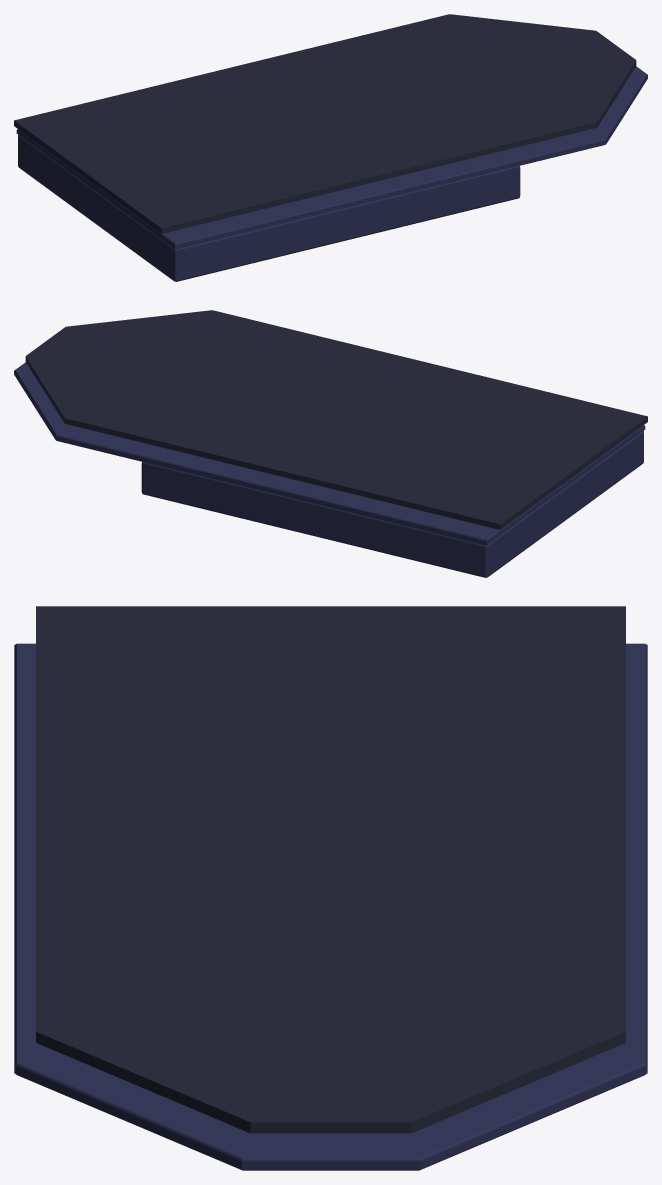
The model's file is HULL_deck_slab.glb.
3 renders of one model, top to bottom at view 1: azimuth 30°, elevation 25°; view 2: azimuth 150°, elevation 25°; view 3: azimuth 270°, elevation 25°, orthographic. The views are drawn at different scales.
Parts seen in each view (by area): view 1: HULL_deck_slab.001; view 2: HULL_deck_slab.001; view 3: HULL_deck_slab.001.
Part boxes in pixels (x1=…): HULL_deck_slab.001: x1=14, y1=14, x2=647, y2=281; HULL_deck_slab.001: x1=14, y1=310, x2=647, y2=577; HULL_deck_slab.001: x1=14, y1=606, x2=647, y2=1170.
Size of the model in its own units: 23.15 by 2.18 by 11.8.
